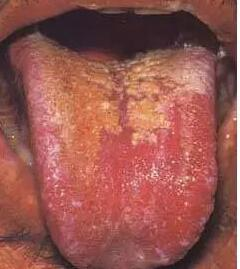botaishe: (91, 117, 188, 169)
hongshe: (12, 33, 218, 267)
huangtaishe: (12, 33, 218, 267)
